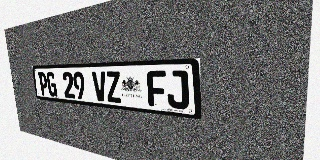2: (62, 72, 75, 99)
9: (72, 72, 86, 100)
F: (146, 71, 167, 108)
G: (46, 72, 58, 97)
J: (166, 70, 189, 110)
P: (38, 72, 49, 96)
V: (92, 71, 107, 102)
Z: (105, 71, 122, 103)
